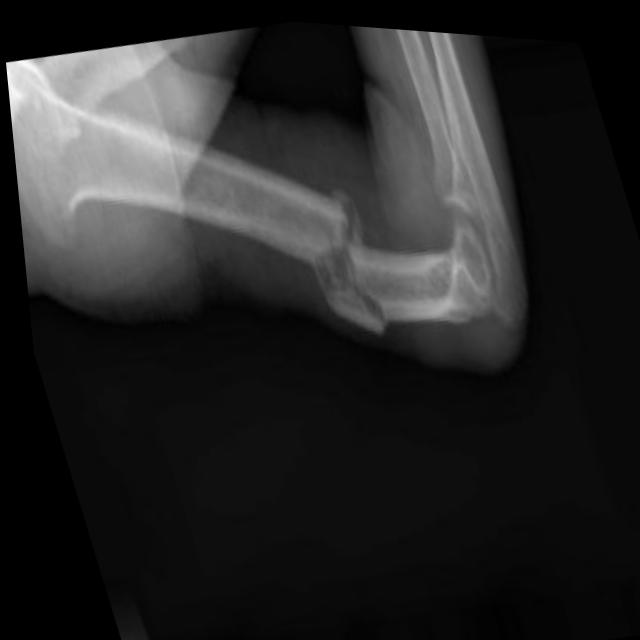fracture: (270, 155, 397, 352)
